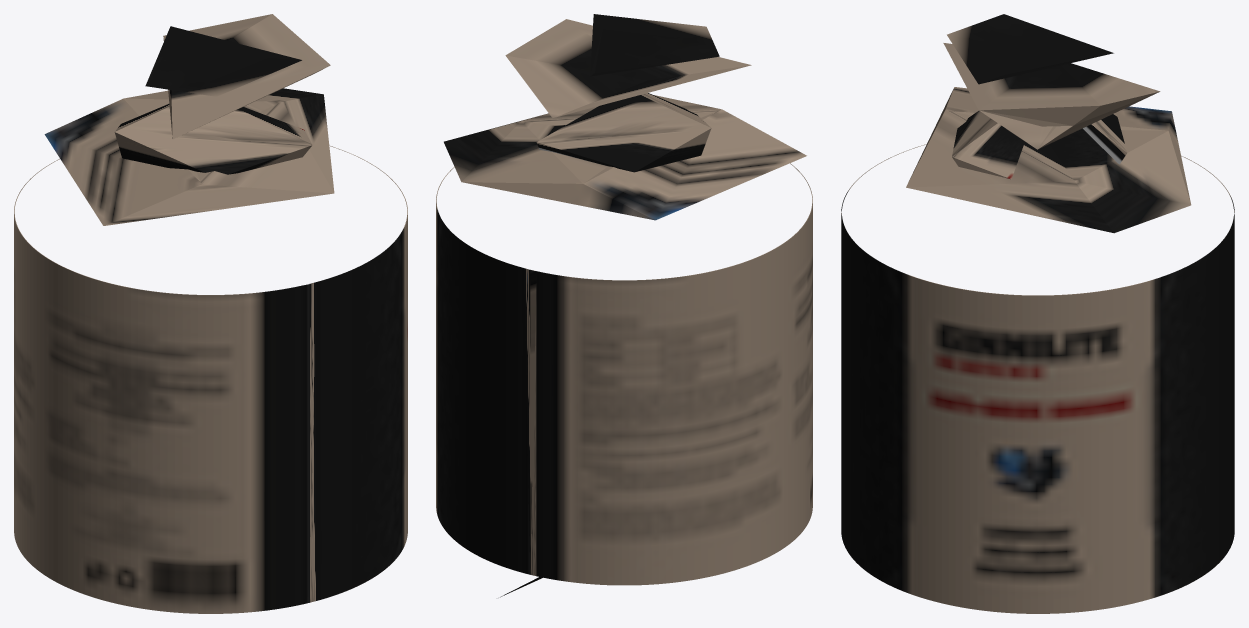
File: consumable_lubricant_antiSeize_a01.glb
3 renders of one model, left to right at view 1: azimuth 30°, elevation 25°; view 2: azimuth 150°, elevation 25°; view 3: azimuth 270°, elevation 25°, orthographic. The views are drawn at different scales.
Visible parts, largest first — view 1: geometry_0; view 2: geometry_0; view 3: geometry_0.
Part boxes in pixels (x1,y1,x2,y2): geometry_0: (14,14,407,613); geometry_0: (436,14,812,597); geometry_0: (841,14,1234,613).
Bounding box in the file's own units: 0.2892 × 0.42 × 0.2892.
Materials: 1 (1 with a texture image).
